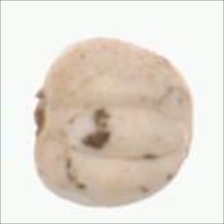L5: (52, 98, 184, 161), (34, 82, 51, 144)
L6: (32, 36, 194, 212)
